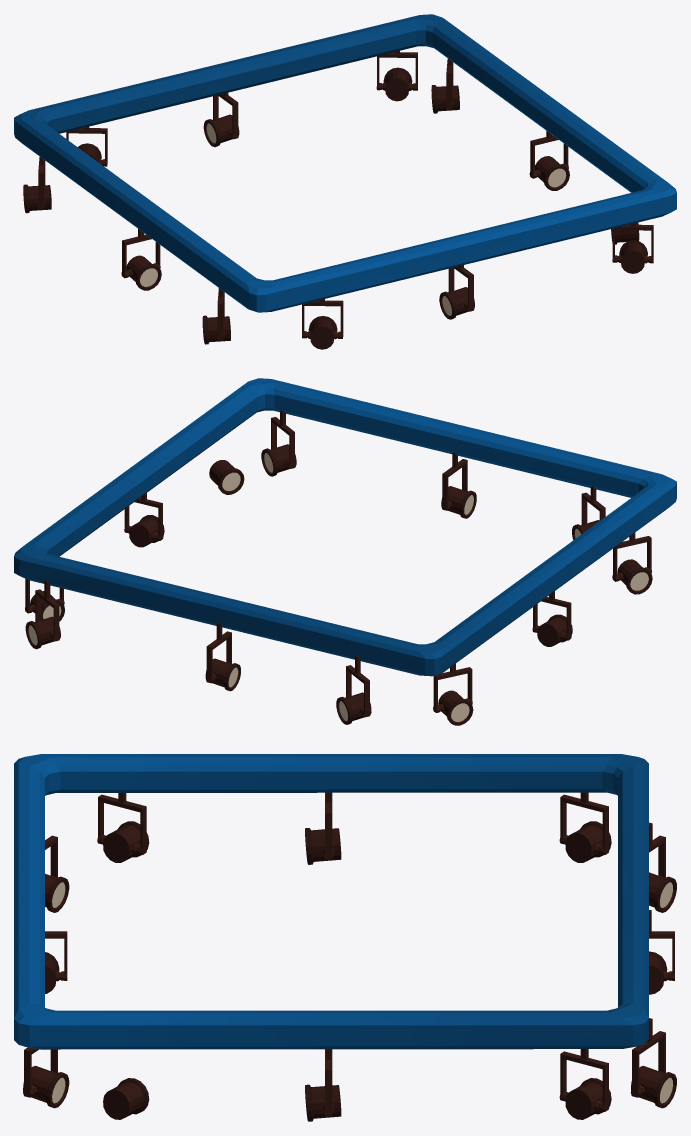
The model's file is SM_Light_Complete_WT_01.fbx.
3 views of the same model, one above another, from view 1: azimuth 30°, elevation 25°; view 2: azimuth 150°, elevation 25°; view 3: azimuth 270°, elevation 25° (orthographic). The views are drawn at different scales.
Visible parts, largest first — view 1: Plane.046, Plane.072, Plane.078, Plane.062, Plane.070, Plane.064, Plane.066, Plane.049, Plane.082, Plane.074, Plane.076, Plane.073 (+6 smaller); view 2: Plane.046, Plane.080, Plane.074, Plane.076, Plane.072, Plane.078, Plane.071, Plane.049, Plane.066, Plane.064, Plane.070, Plane.068 (+8 smaller); view 3: Plane.046, Plane.080, Plane.074, Plane.076, Plane.064, Plane.082, Plane.070, Plane.077, Plane.083, Plane.075, Plane.071, Plane.078 (+7 smaller).
Boxes of the visible parts, x1,y1,x2,y2 form: Plane.046: (14,14,676,312); Plane.072: (126,255,161,290); Plane.078: (535,156,569,190); Plane.062: (308,316,337,349); Plane.070: (383,67,412,101); Plane.064: (619,240,647,273); Plane.066: (203,114,239,147); Plane.049: (439,287,474,319); Plane.082: (431,85,459,113); Plane.074: (202,315,230,344); Plane.076: (23,184,51,213); Plane.073: (121,229,160,278); Plane.046: (14,378,676,676); Plane.080: (209,460,244,494); Plane.074: (617,559,652,594); Plane.076: (438,690,473,725); Plane.072: (537,614,572,646); Plane.078: (129,515,164,547); Plane.071: (35,580,60,641); Plane.049: (441,486,476,518); Plane.066: (205,658,240,691); Plane.064: (261,444,296,476); Plane.070: (25,616,60,649); Plane.068: (336,692,371,724); Plane.046: (14,754,648,1049); Plane.080: (103,1078,149,1119); Plane.074: (103,821,149,862); Plane.076: (565,821,611,862); Plane.064: (23,1065,69,1108); Plane.082: (565,1078,611,1119); Plane.070: (631,1065,676,1108); Plane.077: (559,792,609,854); Plane.083: (559,1049,609,1111); Plane.075: (97,793,147,854); Plane.071: (630,1018,665,1097); Plane.078: (305,1084,341,1121).
Size of the model in its own units: 4174 by 747 by 4177.
Materials: 1 (1 with a texture image).
